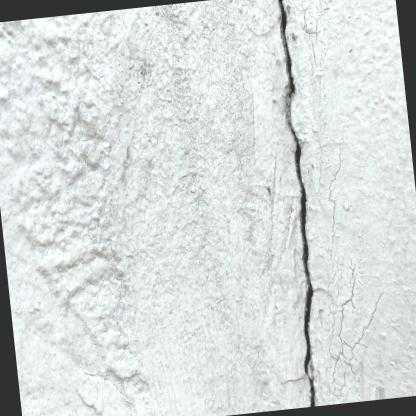crack: (276, 0, 314, 406)
